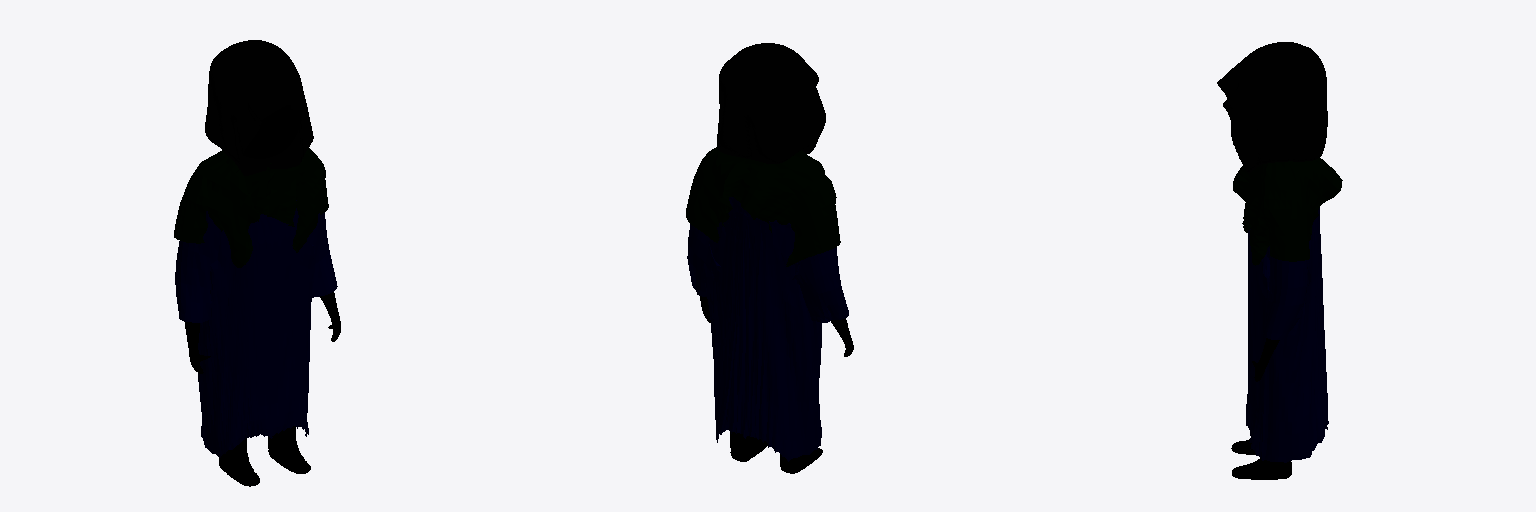
Rendered from sectarian.obj.
The picture shows the model from 3 angles: view 1: azimuth 30°, elevation 25°; view 2: azimuth 150°, elevation 25°; view 3: azimuth 270°, elevation 25°; orthographic projection.
Parts seen in each view (by area): view 1: Túnica_Cubo.001, Ropa_Cuello_Plano.001, Capucha_Plano.003, Cuerpo; view 2: Túnica_Cubo.001, Capucha_Plano.003, Ropa_Cuello_Plano.001, Cuerpo; view 3: Túnica_Cubo.001, Capucha_Plano.003, Ropa_Cuello_Plano.001, Cuerpo.
Boxes of the visible parts, x1,y1,x2,y2 form: Túnica_Cubo.001: [175, 200, 337, 457]; Ropa_Cuello_Plano.001: [174, 148, 328, 267]; Capucha_Plano.003: [205, 40, 313, 175]; Cuerpo: [184, 105, 340, 486]; Túnica_Cubo.001: [687, 197, 848, 461]; Capucha_Plano.003: [717, 43, 825, 163]; Ropa_Cuello_Plano.001: [686, 147, 840, 266]; Cuerpo: [700, 296, 853, 473]; Túnica_Cubo.001: [1246, 208, 1328, 462]; Capucha_Plano.003: [1217, 42, 1327, 172]; Ropa_Cuello_Plano.001: [1233, 158, 1342, 265]; Cuerpo: [1231, 129, 1291, 479].
Bounding box in the file's own units: 5.61 × 14.42 × 3.92.